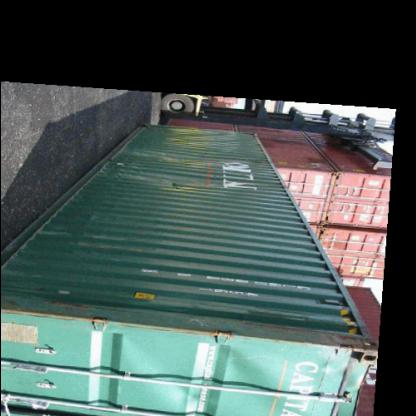Damage: (204, 332, 372, 414), (122, 127, 262, 189), (50, 200, 124, 271)
